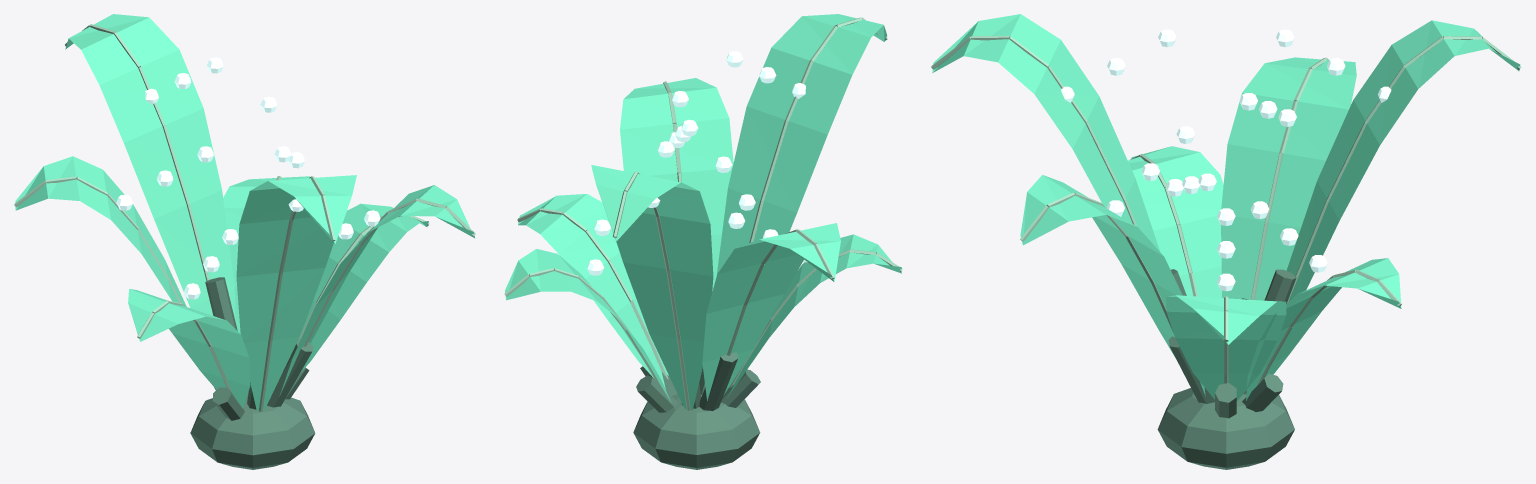
File: glowfern-ready-for-transplant.glb
3 views of the same model, side by side, from view 1: azimuth 30°, elevation 25°; view 2: azimuth 150°, elevation 25°; view 3: azimuth 270°, elevation 25° (orthographic). The views are drawn at different scales.
Parts seen in each view (by area): view 1: glowfern.sway-pivot; view 2: glowfern.sway-pivot; view 3: glowfern.sway-pivot.
Part boxes in pixels (bbox=[...]): glowfern.sway-pivot: bbox=[14, 14, 475, 469]; glowfern.sway-pivot: bbox=[504, 14, 902, 469]; glowfern.sway-pivot: bbox=[931, 14, 1521, 469].
Bounding box in the file's own units: 1.14 × 1.16 × 1.46.
